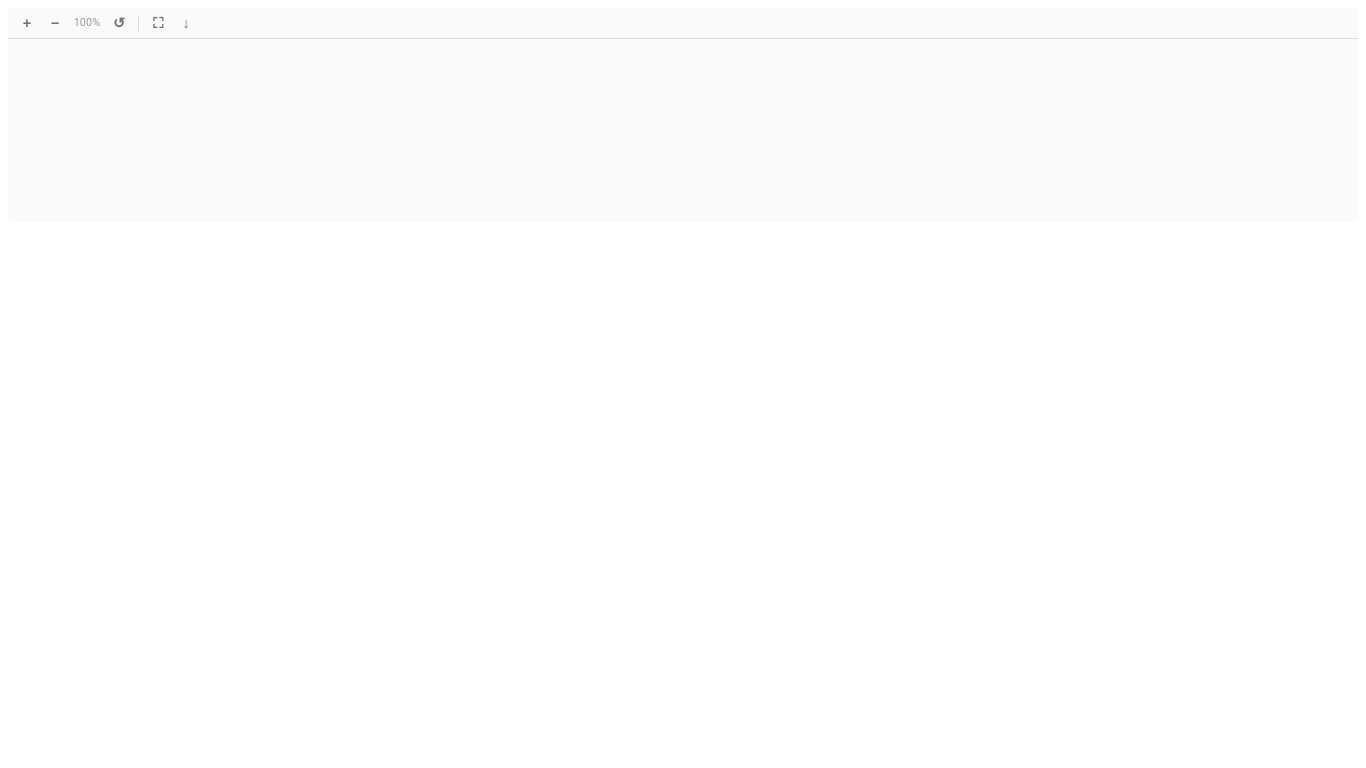
Test: MermaidDiagramViewer › fullscreen › opens the fullscreen dialog when fullscreen button is clicked
The width and height of the screenshot is (1366, 768).
Click the button titled "Fullscreen": coordinates (158, 23) [145,10,171,36]
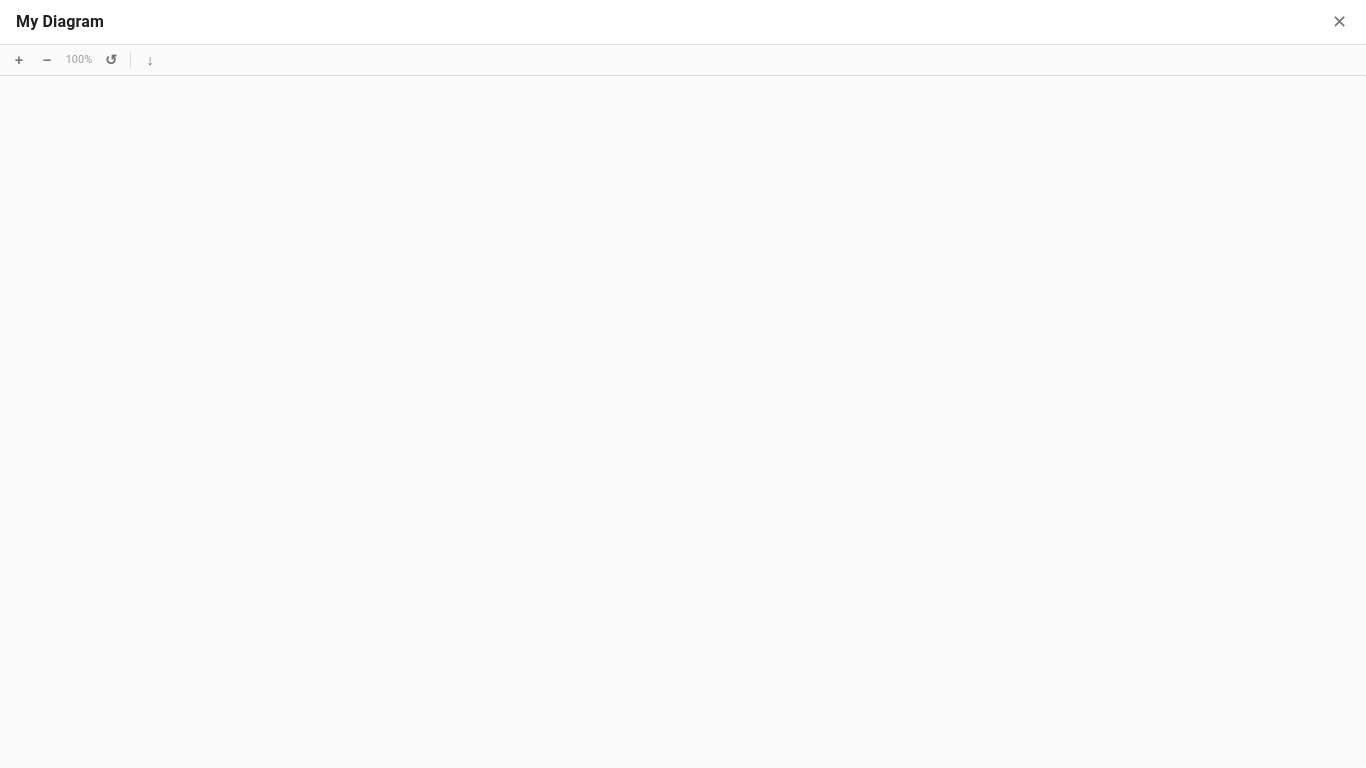
Now the button titled "Close fullscreen" is shown, box [1329,8,1350,36]
